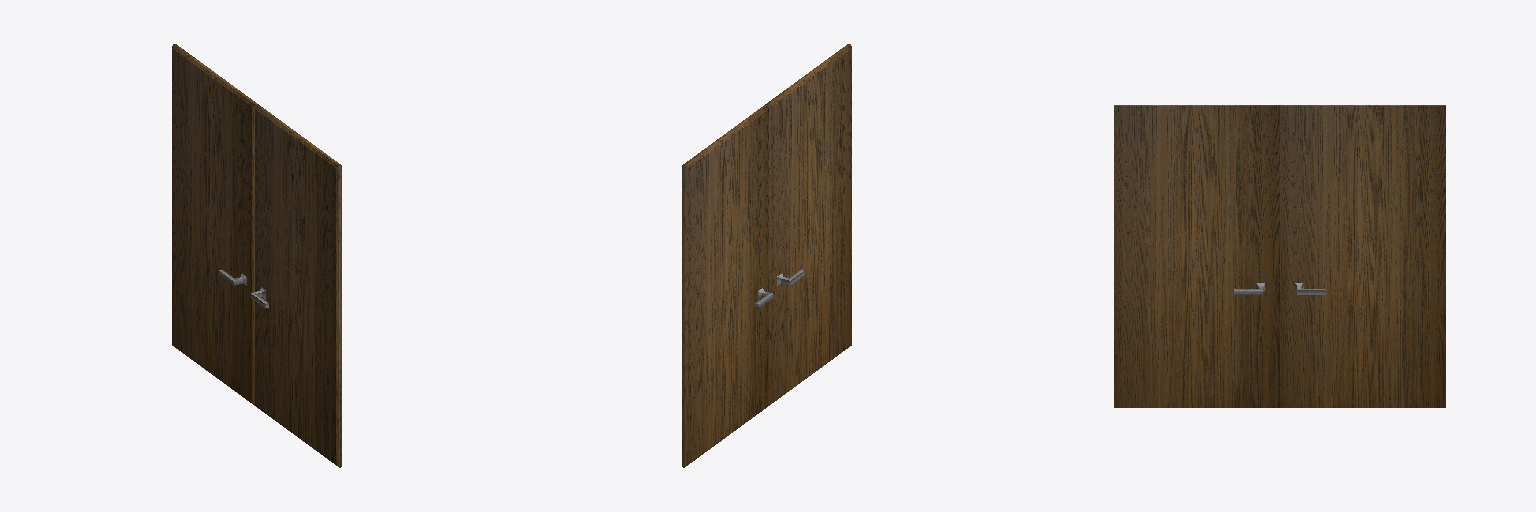
The picture shows the model from 3 angles: view 1: azimuth 30°, elevation 25°; view 2: azimuth 150°, elevation 25°; view 3: azimuth 270°, elevation 25°; orthographic projection.
Visible parts, largest first — view 1: Box284, Box281; view 2: Box281, Box284; view 3: Box281, Box284.
Boxes of the visible parts, box(x1,y1,x2,y2) form: Box284: box(255, 104, 341, 467); Box281: box(172, 44, 257, 405); Box281: box(682, 104, 768, 467); Box284: box(766, 44, 851, 405); Box281: box(1280, 105, 1445, 407); Box284: box(1114, 105, 1279, 407).
Bounding box in the file's own units: 11.32 × 118 × 118.
4 materials, 2 textured.